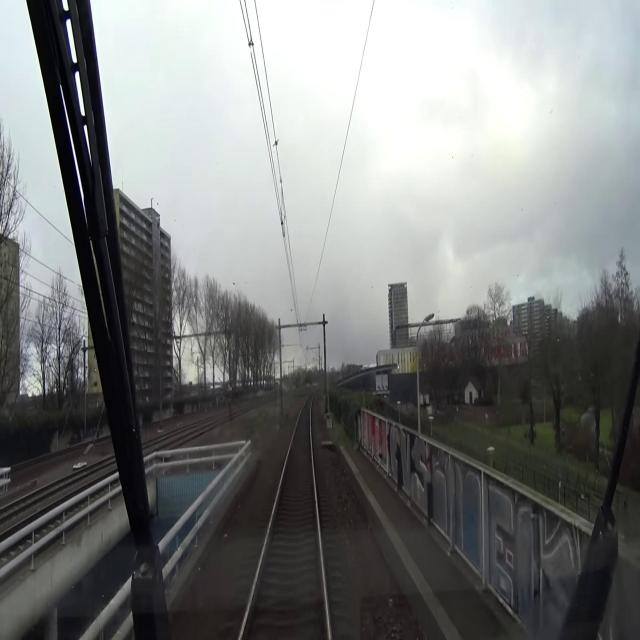rail-track: (249, 399, 325, 630)
